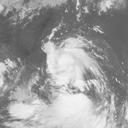cyclone: (41, 41, 102, 95)
